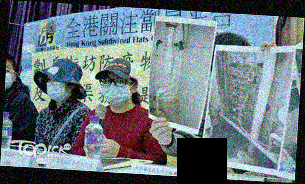with_mask: (102, 74, 133, 106), (46, 74, 70, 102), (5, 65, 15, 94)
